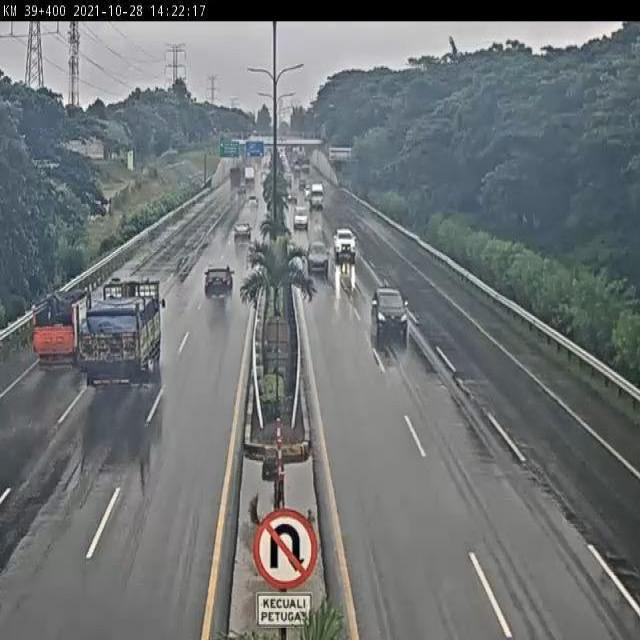car: (369, 285, 409, 332), (202, 264, 234, 300), (333, 227, 360, 264), (306, 240, 332, 276), (232, 221, 254, 247), (293, 207, 309, 228), (248, 194, 261, 214)
truck: (86, 279, 169, 388), (31, 293, 80, 380)
